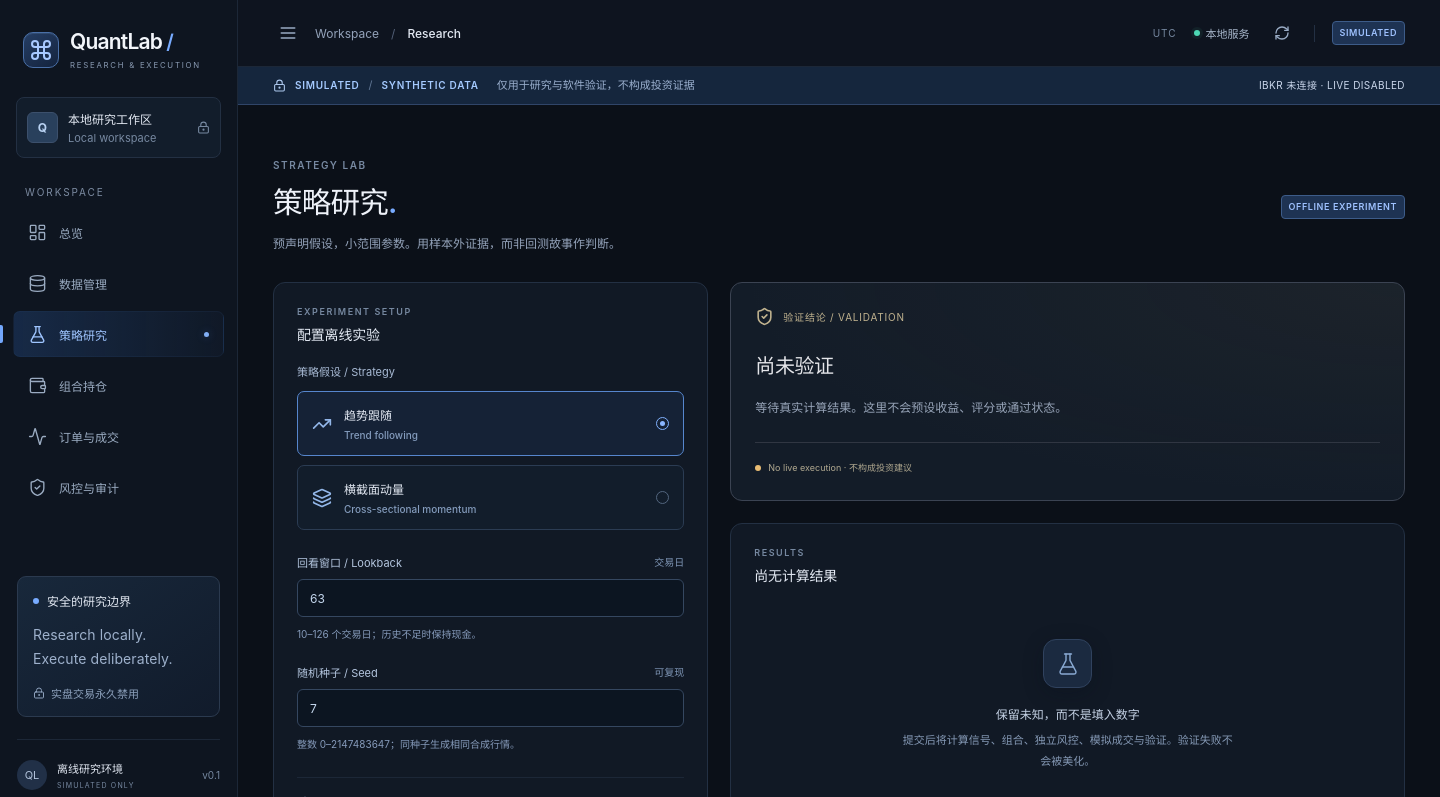
bounded, explicit offline experiment › rejects invalid 随机种子 -1 before any POST
Replace the text in the number field labelled "随机种子 / Seed 可复现" with "-1". click: coordinates (491, 708)
box: 297,689 -> 684,727
(page scrolled)
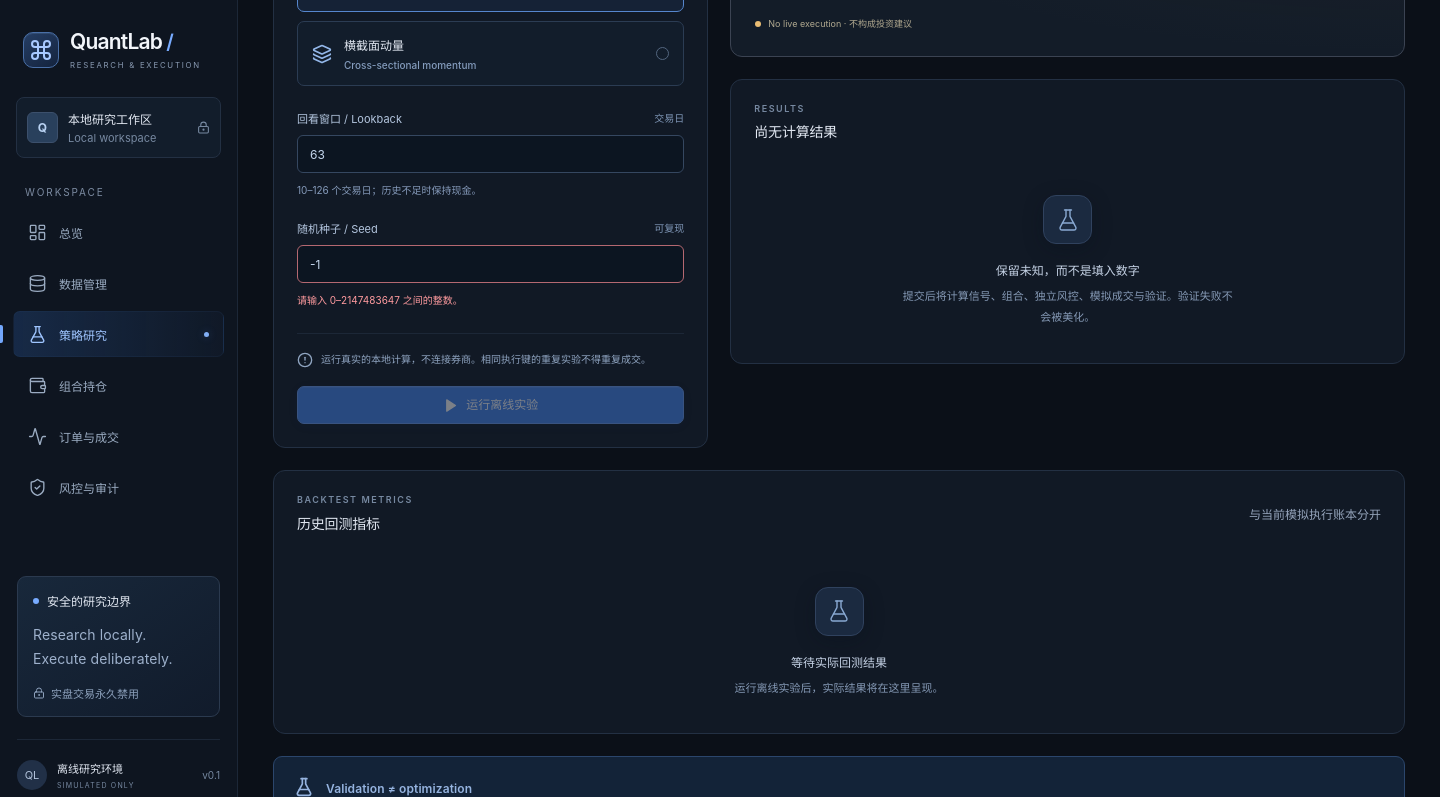
Expected: the button "运行离线实验" is disabled, 297,386 -> 684,424
